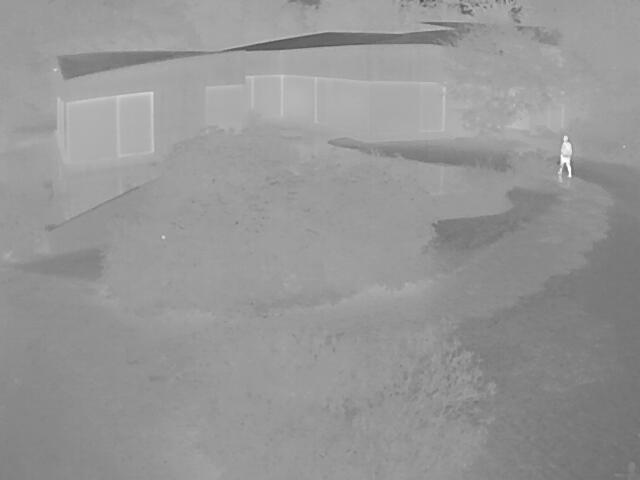person: (555, 134, 572, 177)
